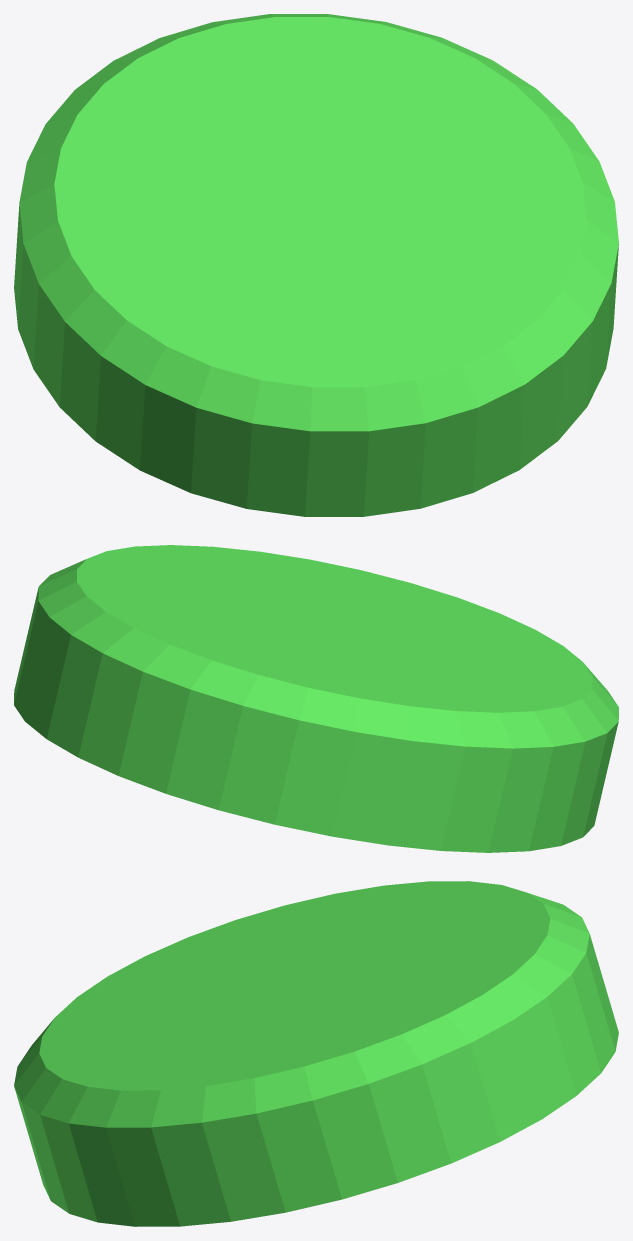
The model's file is tutorial_button_02.glb.
3 views of the same model, one above another, from view 1: azimuth 30°, elevation 25°; view 2: azimuth 150°, elevation 25°; view 3: azimuth 270°, elevation 25° (orthographic). The views are drawn at different scales.
Visible parts, largest first — view 1: tutorial_button.001; view 2: tutorial_button.001; view 3: tutorial_button.001.
Part boxes in pixels (x1,y1,x2,y2): tutorial_button.001: [14, 14, 618, 516]; tutorial_button.001: [14, 545, 618, 852]; tutorial_button.001: [14, 881, 618, 1226].
Bounding box in the file's own units: 0.2541 × 0.1276 × 0.264.
